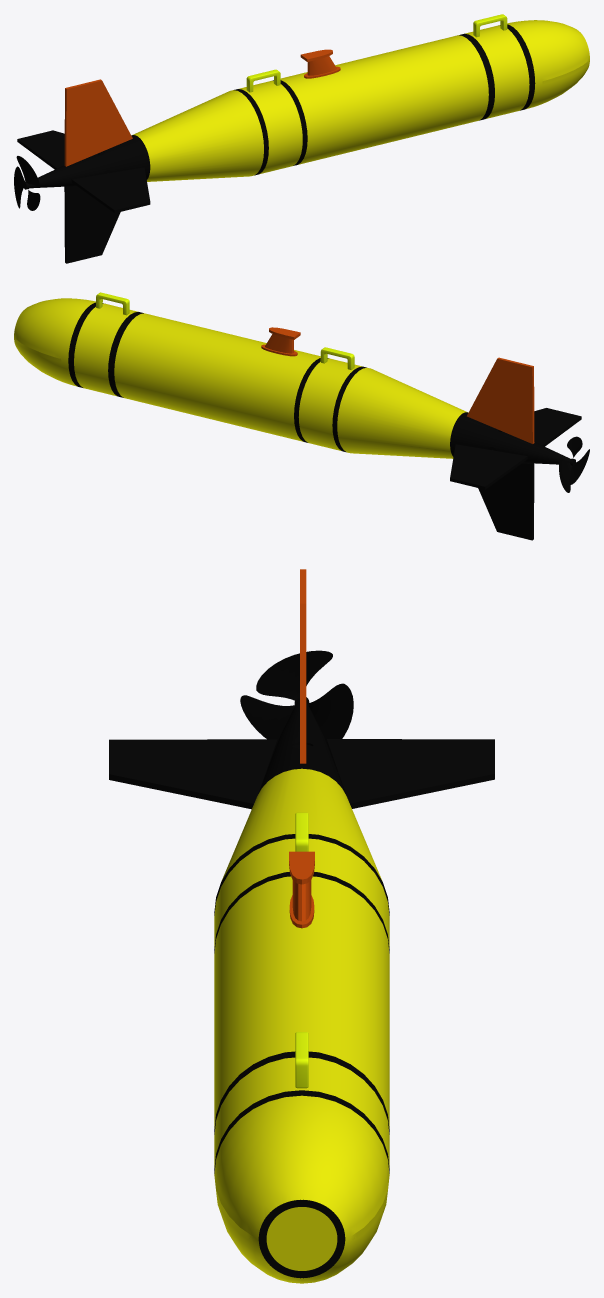
File: AUV.fbx
3 views of the same model, one above another, from view 1: azimuth 30°, elevation 25°; view 2: azimuth 150°, elevation 25°; view 3: azimuth 270°, elevation 25° (orthographic). The views are drawn at different scales.
Visible parts, largest first — view 1: Myring Body, Rudders, Stern Planes, Propeller; view 2: Myring Body, Rudders, Stern Planes, Propeller; view 3: Myring Body, Stern Planes, Propeller, Rudders.
Part boxes in pixels (box(x1,y1,x2,y2)): Myring Body: box(29, 14, 589, 188); Rudders: box(64, 79, 132, 263); Stern Planes: box(17, 130, 150, 212); Propeller: box(14, 156, 40, 210); Myring Body: box(14, 292, 570, 464); Rudders: box(467, 357, 534, 540); Stern Planes: box(450, 408, 581, 489); Propeller: box(559, 436, 589, 492); Myring Body: box(214, 700, 389, 1283); Stern Planes: box(109, 739, 494, 809); Propeller: box(240, 650, 353, 742); Rudders: box(300, 569, 306, 763).
Bounding box in the file's own units: 1.38 × 0.4165 × 0.4206.
